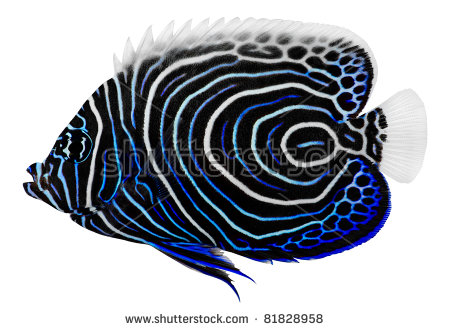Pomacanthus_imperator: (20, 12, 425, 288)
